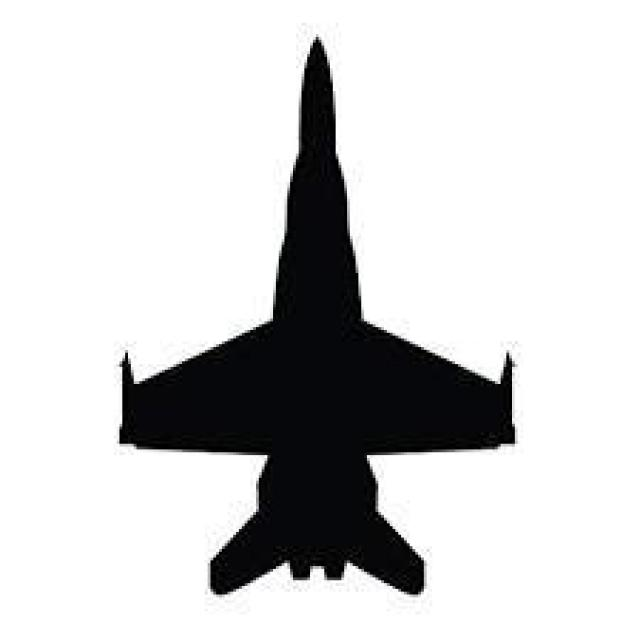Tanks: (74, 44, 529, 573)
